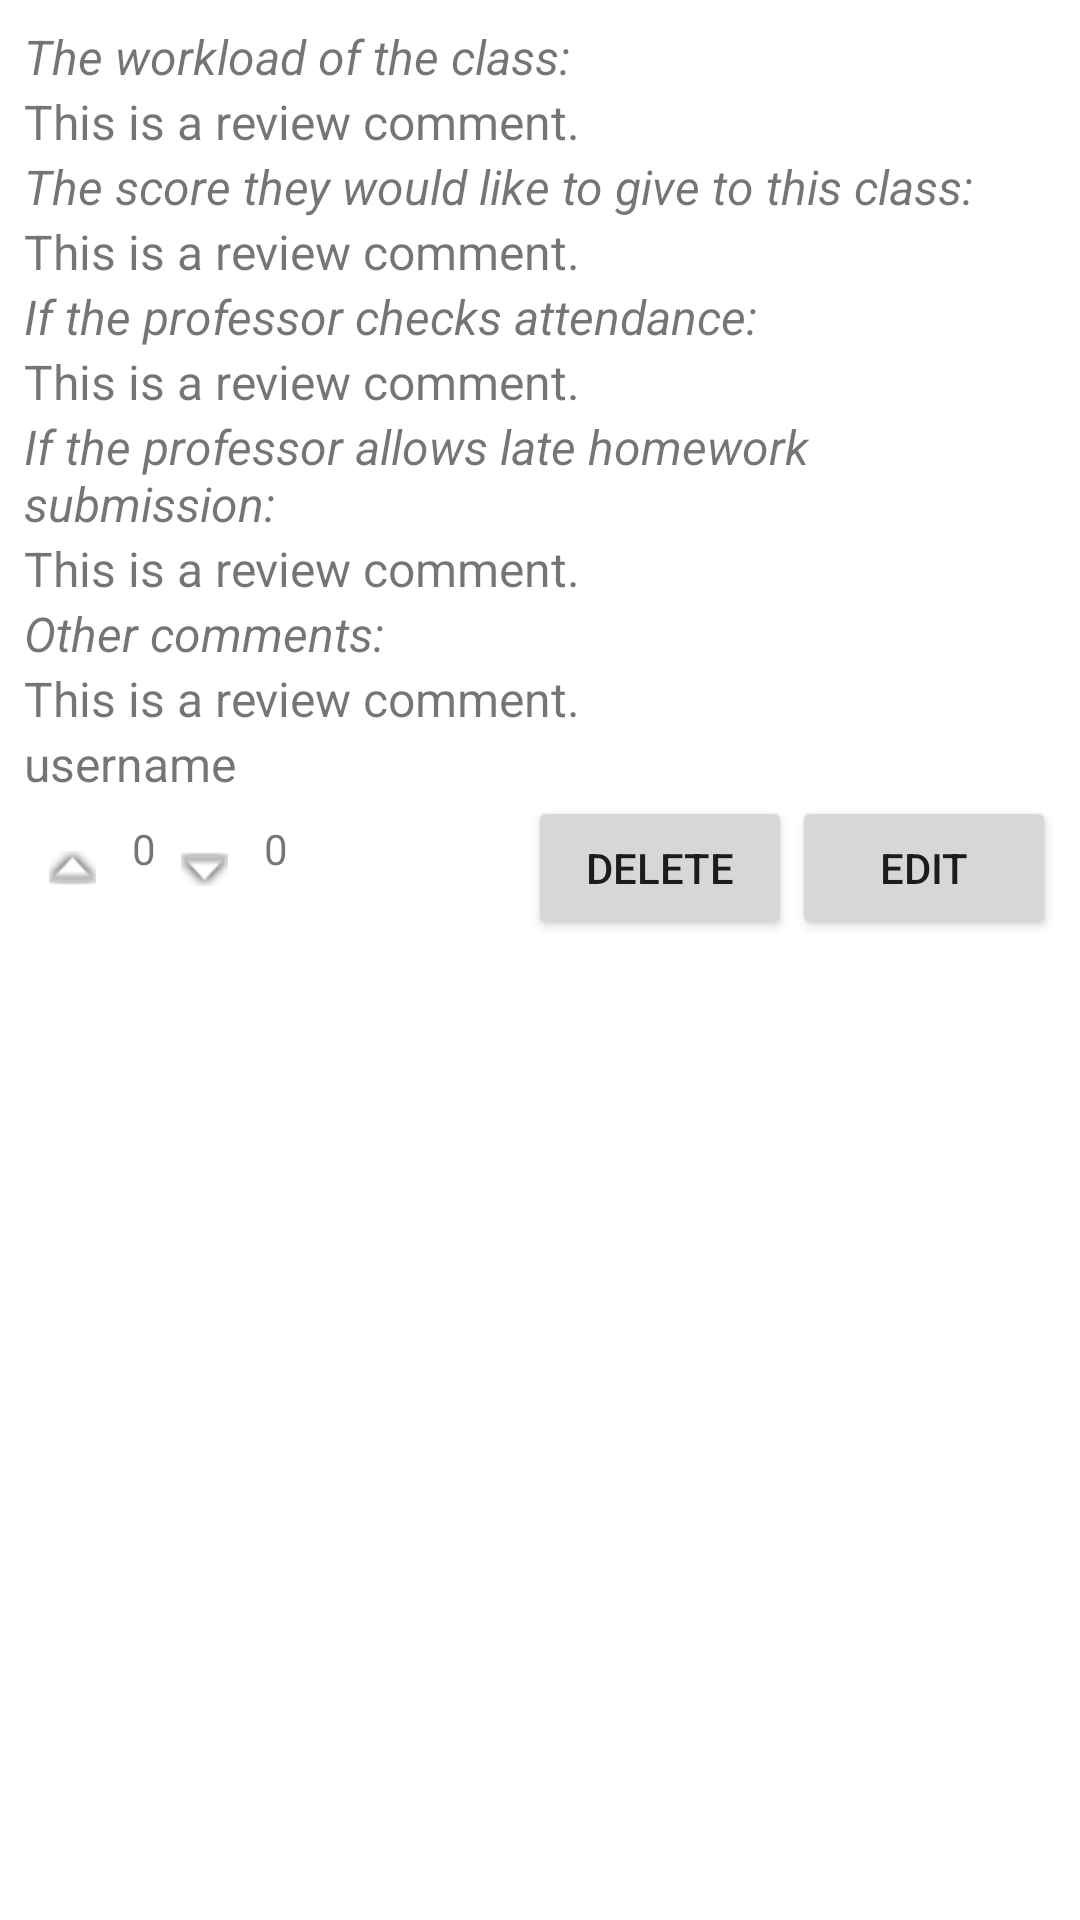

Icons on this 1080px x 1920px Android screen, each with the point to tap as [x,y]:
arrow down float: [204,869]
arrow up float: [72,868]
